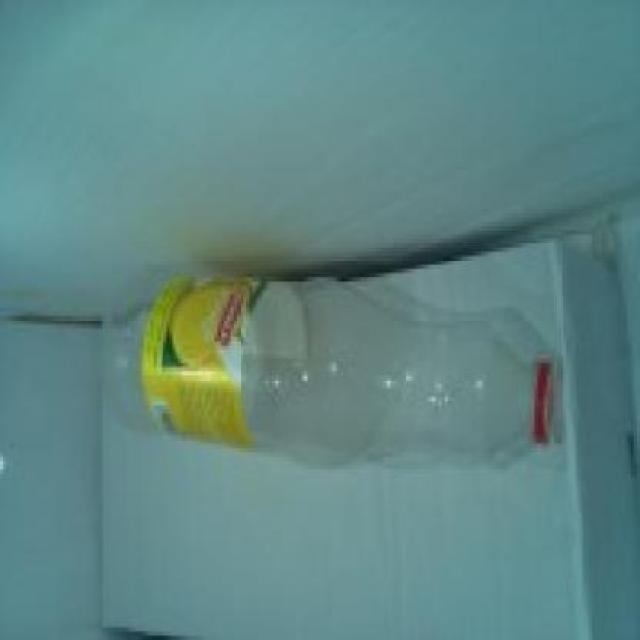Pet_Bottle: (101, 252, 570, 483)
